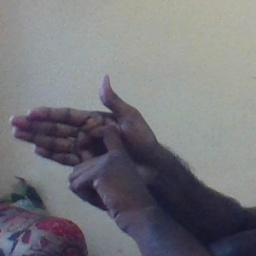R: (12, 74, 162, 205)
